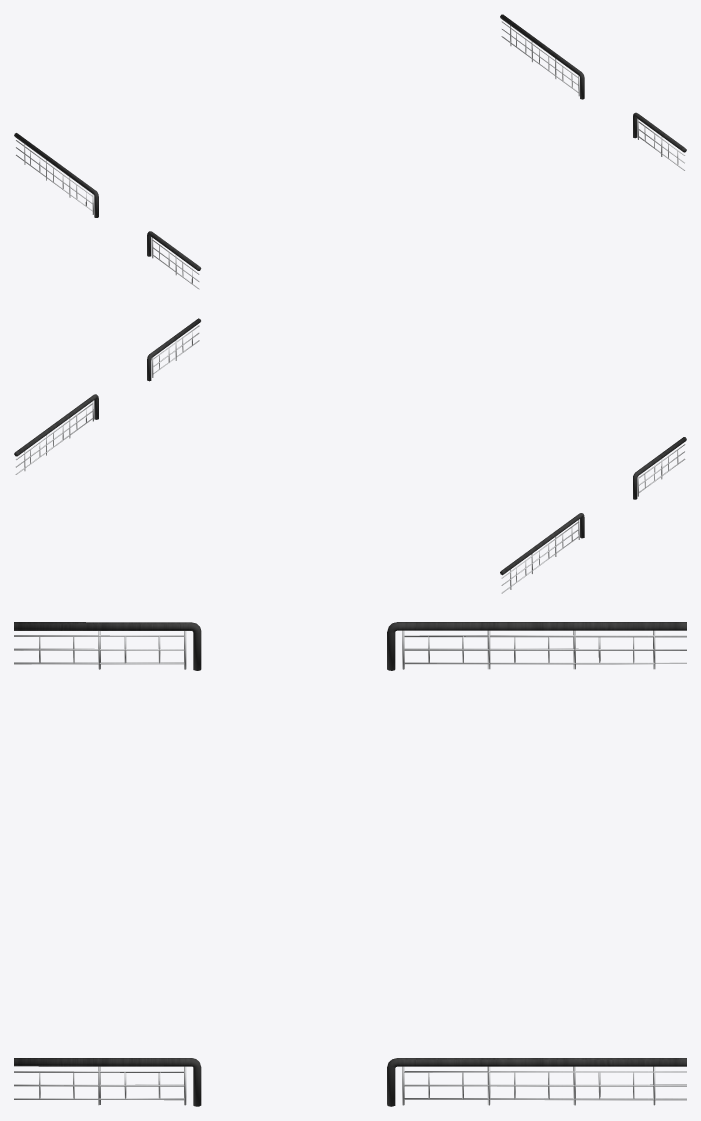
File: Mesh_Fences.glb
3 renders of one model, top to bottom at view 1: azimuth 30°, elevation 25°; view 2: azimuth 150°, elevation 25°; view 3: azimuth 270°, elevation 25°, orthographic. The views are drawn at different scales.
Visible parts, largest first — view 1: Mesh Fence.001; view 2: Mesh Fence.001; view 3: Mesh Fence.001.
Part boxes in pixels (x1=…): Mesh Fence.001: x1=14, y1=14, x2=686, y2=289; Mesh Fence.001: x1=14, y1=318, x2=686, y2=593; Mesh Fence.001: x1=14, y1=622, x2=686, y2=1106.
Size of what is drawn, in the model's own units: 17 by 0.8392 by 11.
2 materials, 2 textured.
